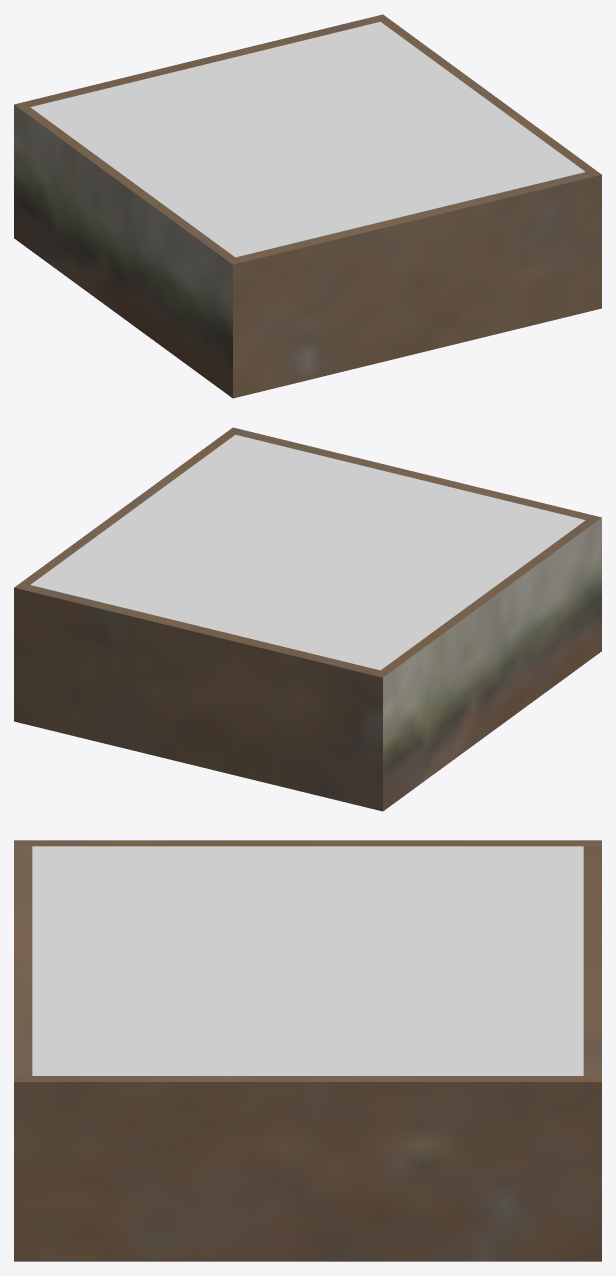
Rendered from arcaderoom.fbx.
3 views of the same model, one above another, from view 1: azimuth 30°, elevation 25°; view 2: azimuth 150°, elevation 25°; view 3: azimuth 270°, elevation 25° (orthographic). The views are drawn at different scales.
Parts seen in each view (by area): view 1: Wall, Roof; view 2: Wall, Roof; view 3: Roof, Wall.
Boxes of the visible parts, x1,y1,x2,y2 form: Wall: (14, 14, 601, 398); Roof: (30, 21, 585, 257); Wall: (14, 427, 601, 811); Roof: (30, 434, 585, 670); Roof: (32, 846, 583, 1075); Wall: (14, 840, 601, 1261).
Size of the model in its own units: 59167 by 20500 by 60800.
